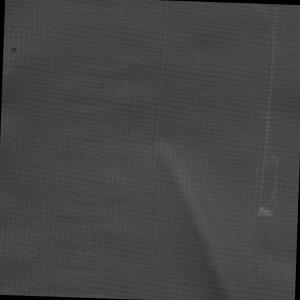Wrinkle: (142, 140, 244, 300)
